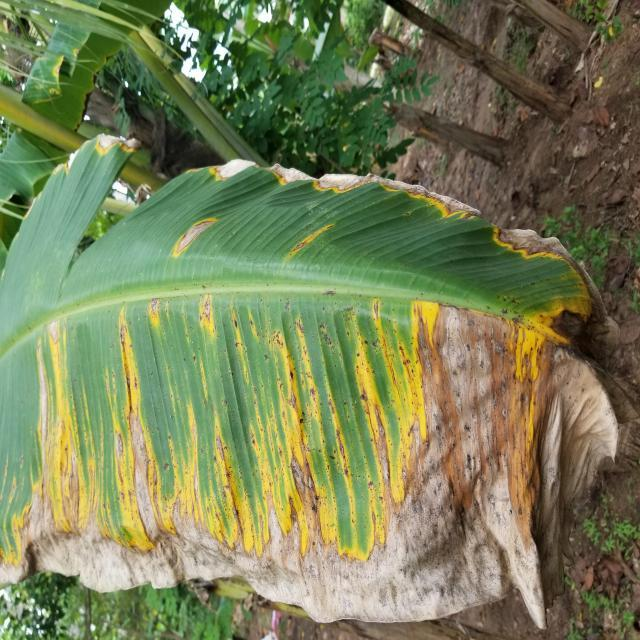Early_rust: (5, 291, 615, 618), (2, 120, 640, 318)
